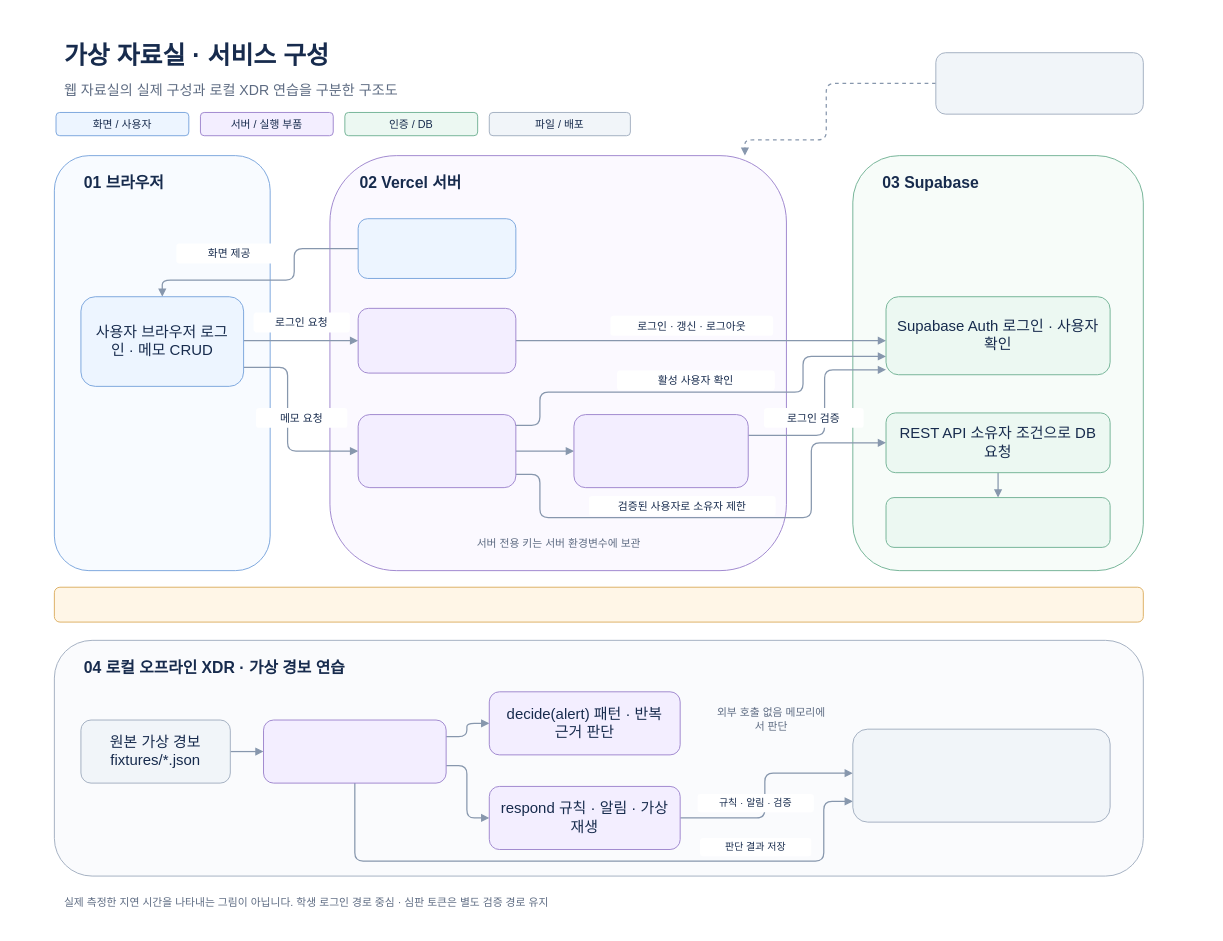
This 1223x941 diagram has some shape labels left out. The centre of each missing label's shape, as x and y in pixels:
api/auth 로그인 요청 중계: the point at 436,340
api/notes 인증 · 소유자 검사: the point at 436,451
GitHub main 코드 반영 → 자동 배포: the point at 1039,83
public/ 자료실 화면 제공: the point at 436,248
src/verify-login 학생 로그인 검증: the point at 660,451
공통 실행기 scripts/xdr-run: the point at 354,751
로컬 결과 파일 result / deny-rules / check alerts.log: the point at 981,775
메모 DB: the point at 997,522
현재 웹 API ↔ XDR 실시간 연결은 확인되지 않음: the point at 598,604
